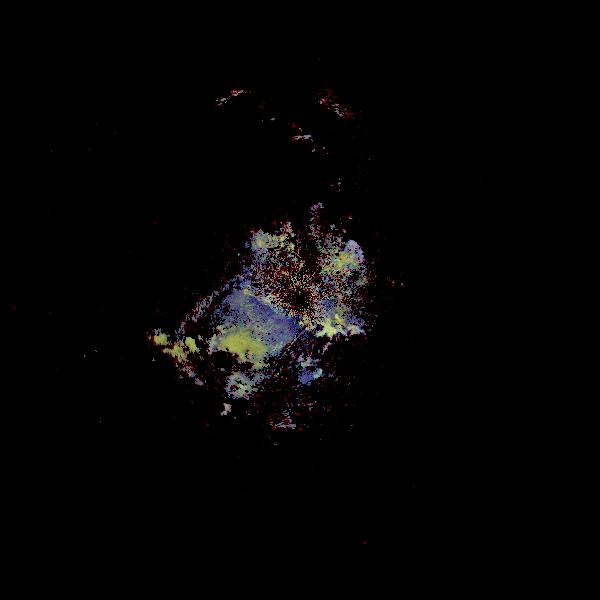roost: (103, 320, 202, 419), (173, 320, 266, 413)
